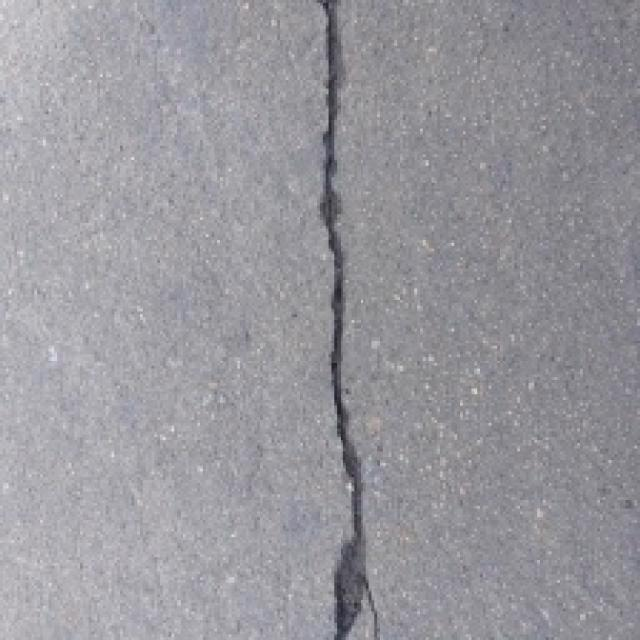crack: (274, 0, 404, 640)
